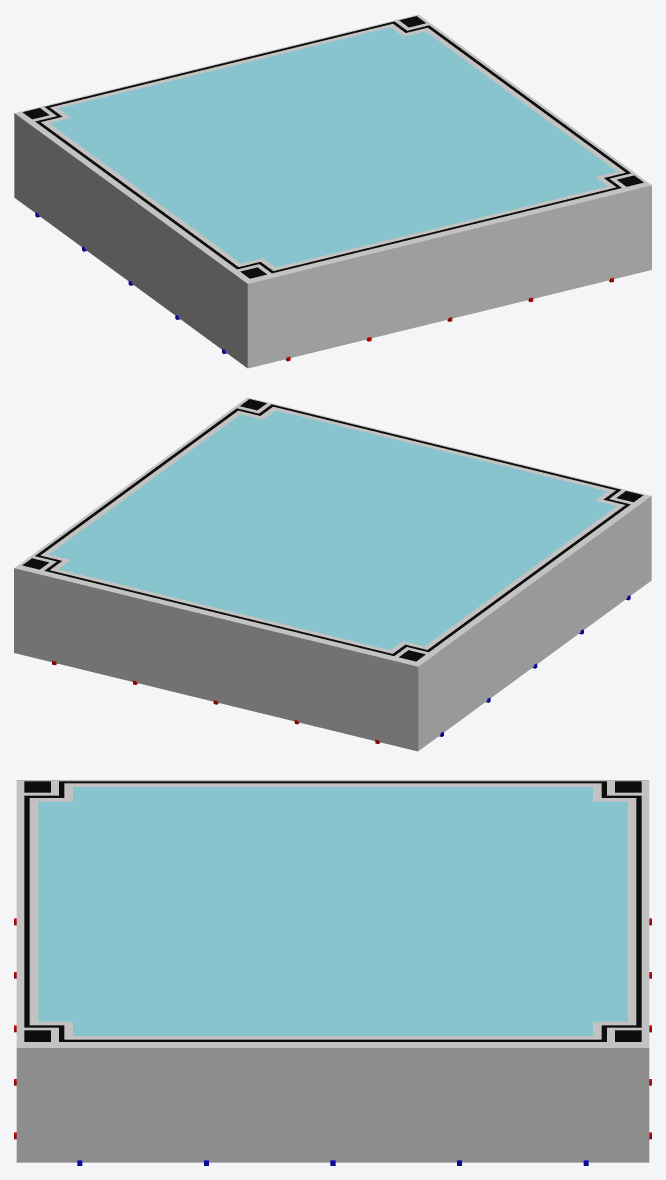
3 views of the same model, one above another, from view 1: azimuth 30°, elevation 25°; view 2: azimuth 150°, elevation 25°; view 3: azimuth 270°, elevation 25° (orthographic). The views are drawn at different scales.
Parts seen in each view (by area): view 1: col2, cube; view 2: col2, cube, pa1, pa4, pa3, pa5, pa2; view 3: col2, cube.
Part boxes in pixels (<box>): col2: <box>22,16,643,278</box>; cube: <box>14,14,651,368</box>; col2: <box>22,399,643,661</box>; cube: <box>14,397,651,750</box>; pa1: <box>94,588,175,692</box>; pa4: <box>256,627,337,731</box>; pa3: <box>175,608,256,711</box>; pa5: <box>337,647,417,751</box>; pa2: <box>14,568,94,672</box>; col2: <box>24,781,641,1041</box>; cube: <box>16,780,649,1162</box>.
Size of the model in its own units: 25.2 by 5.21 by 25.2.
